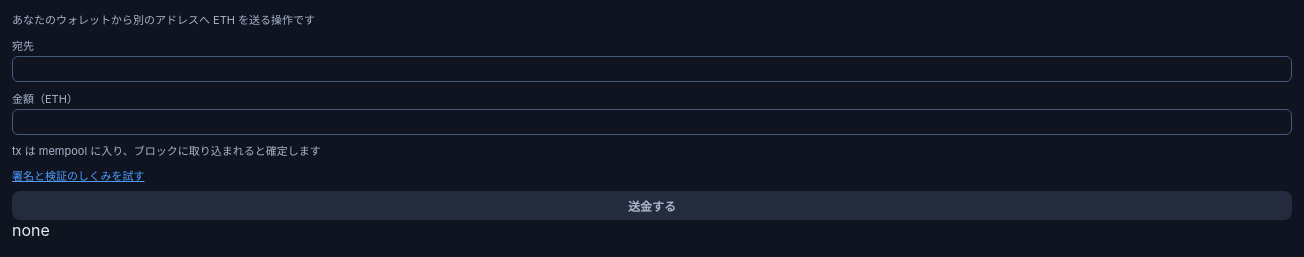
Test: TransferForm: signature demo entry point (Issue #402) › opens the signatureDemo side panel view when clicked, without submitting the form
expect the text with test id "side-panel-view-kind" reads "none": met, box [12,220,50,240]
Click the button with test id "operation-transfer-sig-demo-open" at (78, 175), box [12,167,144,183]
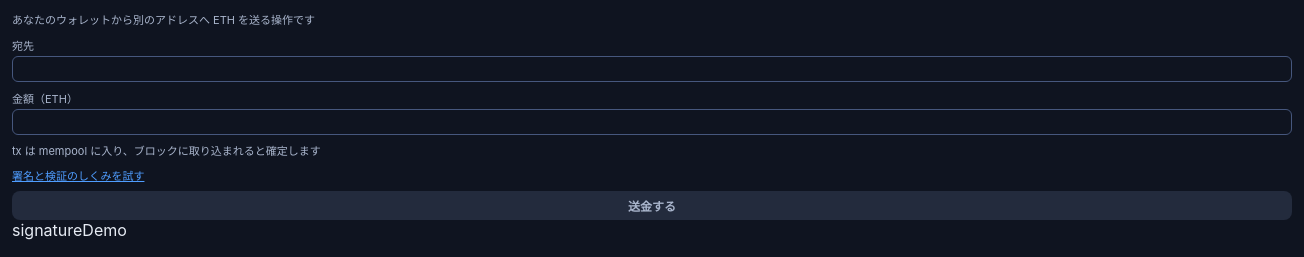
expect the text with test id "side-panel-view-kind" reads "signatureDemo": met, box [12,220,127,240]
